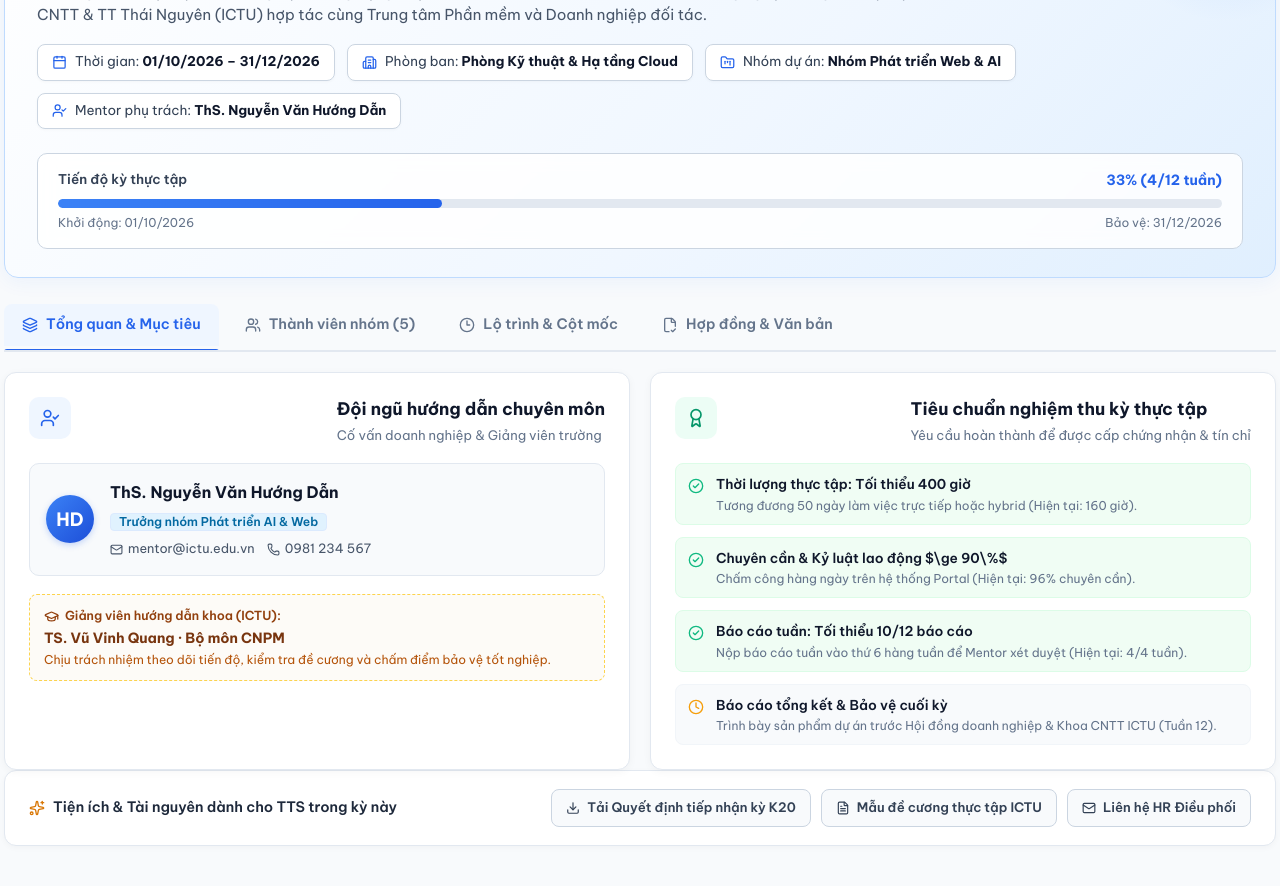
Test: InternProgramPage Component Test Suite (Tab Kỳ thực tập của TTS) › 7. Thao tác bấm nút tiện ích tải văn bản hiển thị thông báo toast
(page scrolled)
Step 1. Click the button "Tải Quyết định tiếp nhận kỳ K20" → (681, 808), box [551,789,811,827]
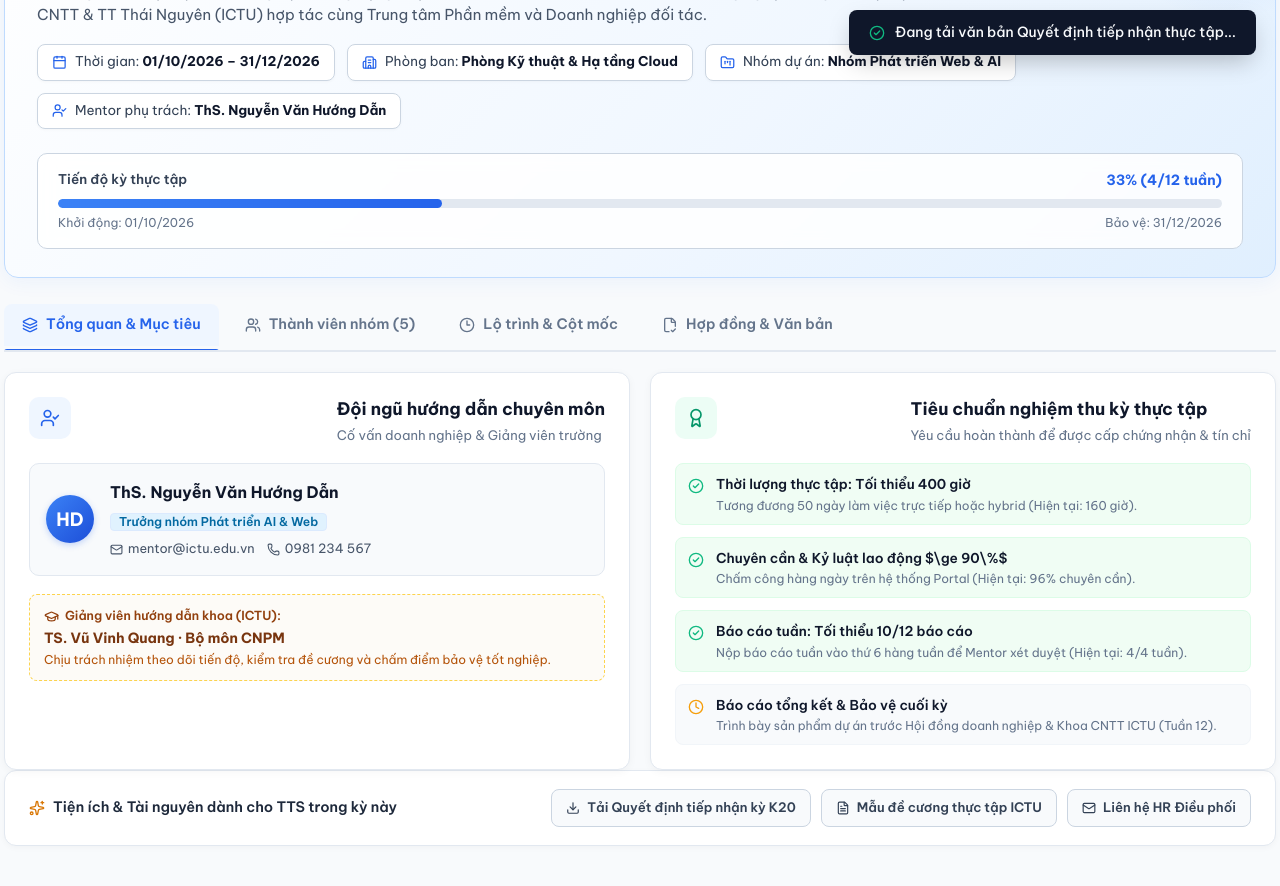
Check: the message "Đang tải văn bản Quyết định tiếp nhận thực tập..." is shown, box [849,10,1256,55]
Check: the text "Đang tải văn bản Quyết định tiếp nhận thực tập..." is shown, box [895,22,1236,43]
